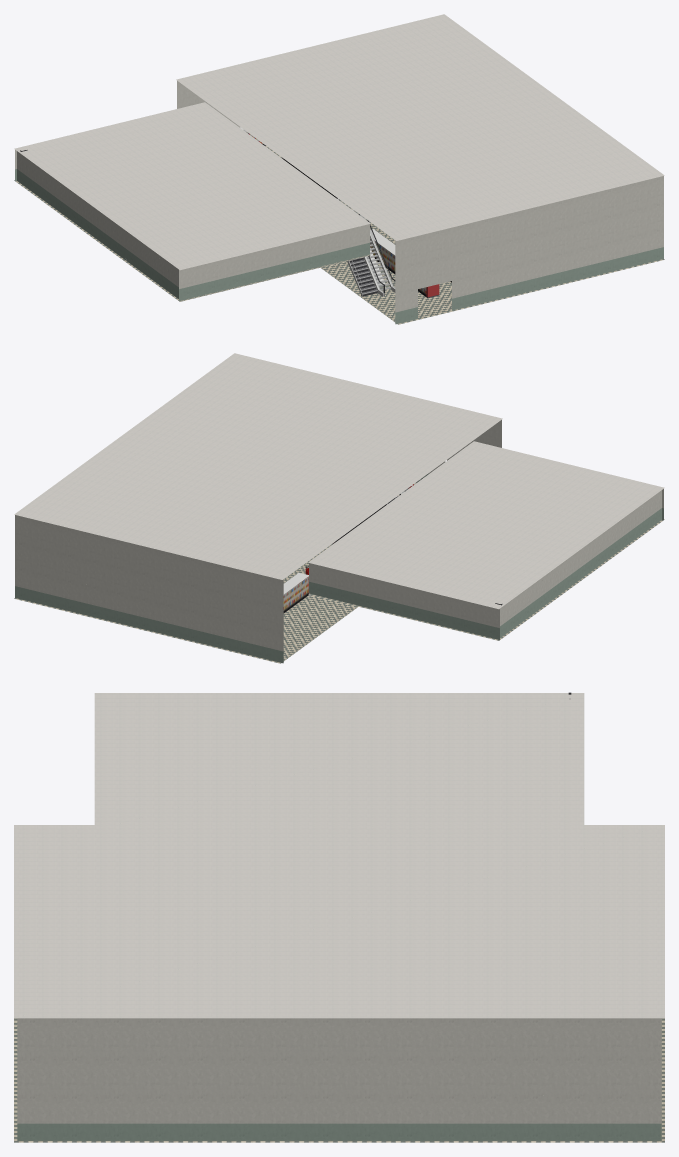
File: second_floor.glb
3 views of the same model, one above another, from view 1: azimuth 30°, elevation 25°; view 2: azimuth 150°, elevation 25°; view 3: azimuth 270°, elevation 25° (orthographic). The views are drawn at different scales.
Parts seen in each view (by area): view 1: Below_Ceiling, Ceiling_Tile, Below_Wall, Wall_Paint, Wall_Lower, Below_Lower, Below_Floor, Floor_Tile, Esc_Clad, Below_Stock; view 2: Below_Ceiling, Ceiling_Tile, Below_Wall, Wall_Paint, Wall_Lower, Below_Lower, Below_Floor, Floor_Tile, Below_Stock; view 3: Below_Ceiling, Below_Wall, Ceiling_Tile, Below_Lower, Below_Floor.
Part boxes in pixels (x1,y1,x2,y2): Below_Ceiling: [176, 14, 664, 240]; Ceiling_Tile: [14, 102, 370, 270]; Below_Wall: [177, 81, 663, 312]; Wall_Paint: [15, 150, 369, 288]; Wall_Lower: [15, 169, 369, 300]; Below_Lower: [395, 247, 663, 324]; Below_Floor: [265, 146, 664, 324]; Floor_Tile: [14, 180, 370, 301]; Esc_Clad: [347, 215, 395, 296]; Below_Stock: [246, 132, 451, 296]; Below_Ceiling: [14, 353, 502, 579]; Ceiling_Tile: [308, 441, 664, 609]; Below_Wall: [15, 420, 501, 651]; Wall_Paint: [309, 489, 663, 627]; Wall_Lower: [309, 508, 663, 639]; Below_Lower: [15, 473, 428, 663]; Below_Floor: [14, 482, 416, 663]; Floor_Tile: [308, 519, 664, 640]; Below_Stock: [283, 497, 396, 613]; Below_Ceiling: [14, 825, 664, 1018]; Below_Wall: [17, 1018, 661, 1123]; Ceiling_Tile: [94, 693, 584, 824]; Below_Lower: [17, 1123, 661, 1140]; Below_Floor: [14, 1018, 664, 1142].
Size of the model in its own units: 48.4 by 8.5 by 40.4.
40 materials, 17 textured.
